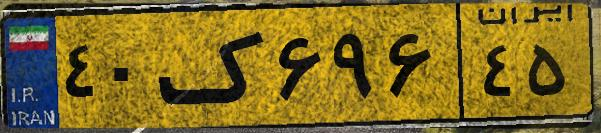0: (110, 28, 158, 98)
4: (57, 26, 110, 100), (475, 38, 525, 113)
5: (525, 38, 570, 115)
6: (270, 28, 330, 110), (385, 28, 445, 110)
9: (330, 28, 385, 110)
ک: (158, 12, 270, 120)
